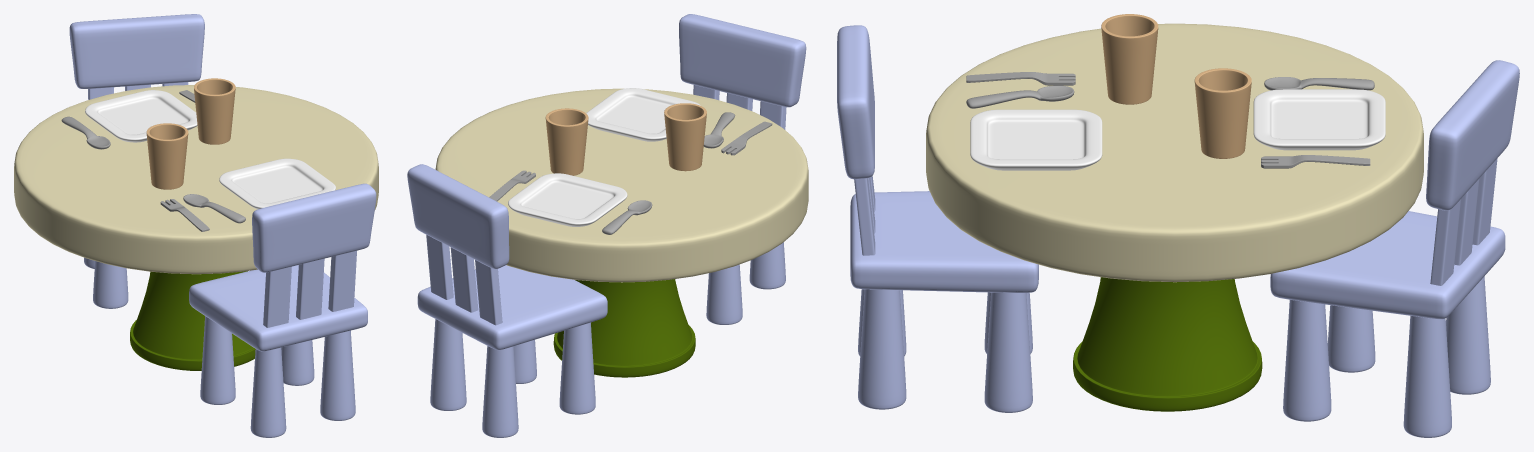
File: tableandchairs.fbx
The picture shows the model from 3 angles, left to right: view 1: azimuth 30°, elevation 25°; view 2: azimuth 150°, elevation 25°; view 3: azimuth 270°, elevation 25°; orthographic projection. The views are drawn at different scales.
Visible parts, largest first — view 1: table, chair, chair1; view 2: table, chair1, chair; view 3: table, chair1, chair.
Boxes of the visible parts, left/top/right/bottom form: table: left=14, top=78, right=378, bottom=370; chair: left=189, top=183, right=376, bottom=437; chair1: left=69, top=14, right=204, bottom=308; table: left=435, top=88, right=808, bottom=377; chair1: left=407, top=164, right=607, bottom=437; chair: left=679, top=14, right=806, bottom=324; table: left=926, top=14, right=1423, bottom=411; chair1: left=1270, top=60, right=1519, bottom=437; chair: left=837, top=25, right=1038, bottom=412.
Size of the model in its own units: 23.3 by 16.58 by 31.94.
